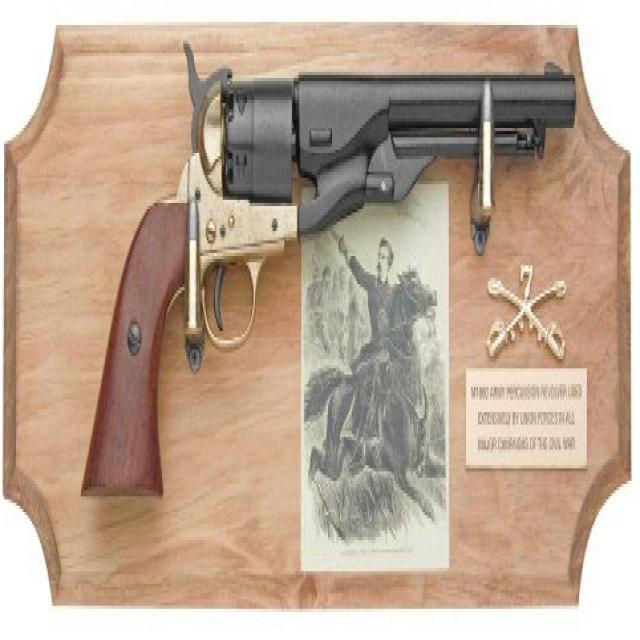HandGun: (82, 44, 576, 496)
